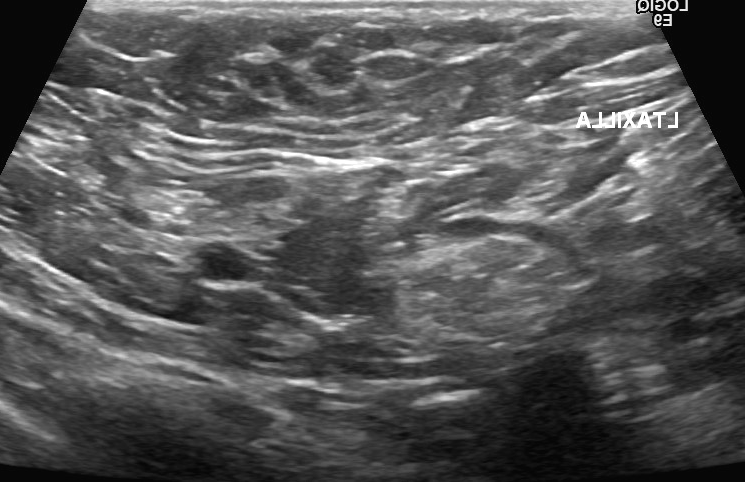Malignant: (279, 183, 386, 297)
